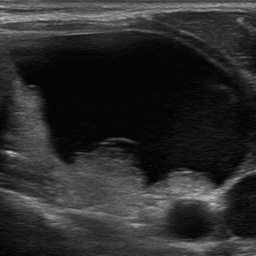mass: (8, 31, 252, 187)
